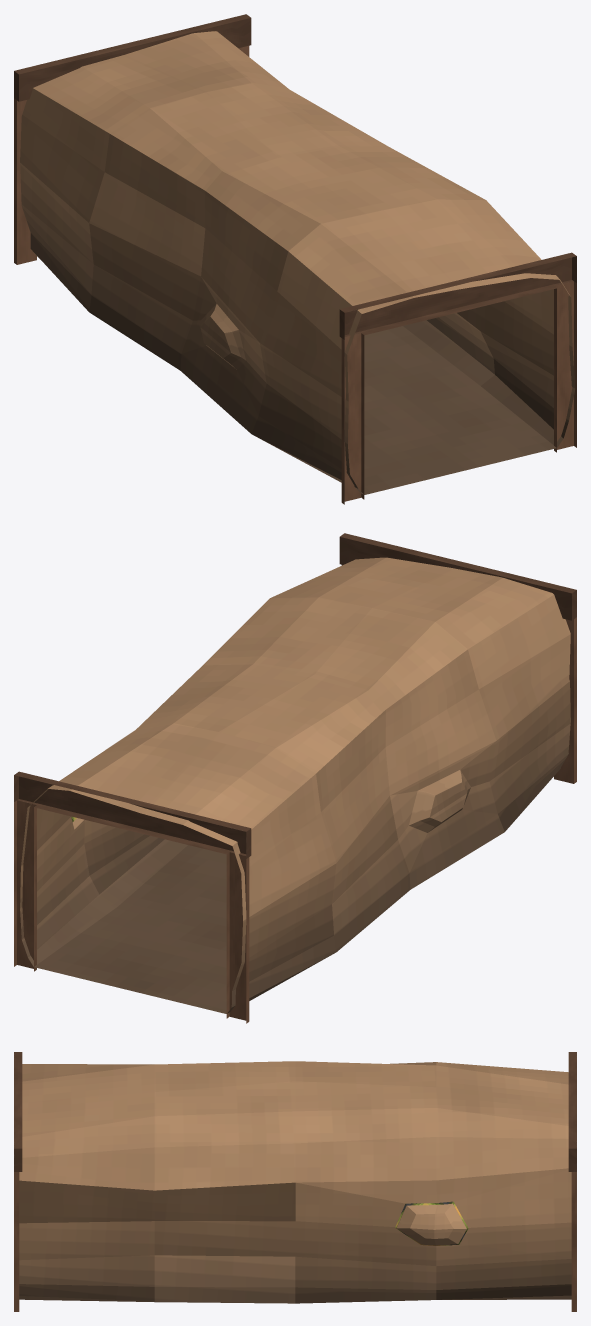
The model's file is SM_OreHallway2.fbx.
3 renders of one model, top to bottom at view 1: azimuth 30°, elevation 25°; view 2: azimuth 150°, elevation 25°; view 3: azimuth 270°, elevation 25°, orthographic. The views are drawn at different scales.
Parts seen in each view (by area): view 1: Hallway.002, Support -y, Support y; view 2: Hallway.002, Support y, Support -y; view 3: Hallway.002, Support -y, Support y, OreVeinCopper.002.
Boxes of the visible parts, <box> form: Hallway.002: <box>20,31,575,494</box>; Support -y: <box>339,252,576,504</box>; Support y: <box>14,14,251,264</box>; Hallway.002: <box>20,557,570,1013</box>; Support y: <box>14,771,251,1023</box>; Support -y: <box>339,533,576,783</box>; Hallway.002: <box>19,1061,571,1303</box>; Support -y: <box>14,1052,22,1311</box>; Support y: <box>568,1052,576,1311</box>; OreVeinCopper.002: <box>395,1201,468,1245</box>.
Bounding box in the file's own units: 465 × 344 × 1000.
